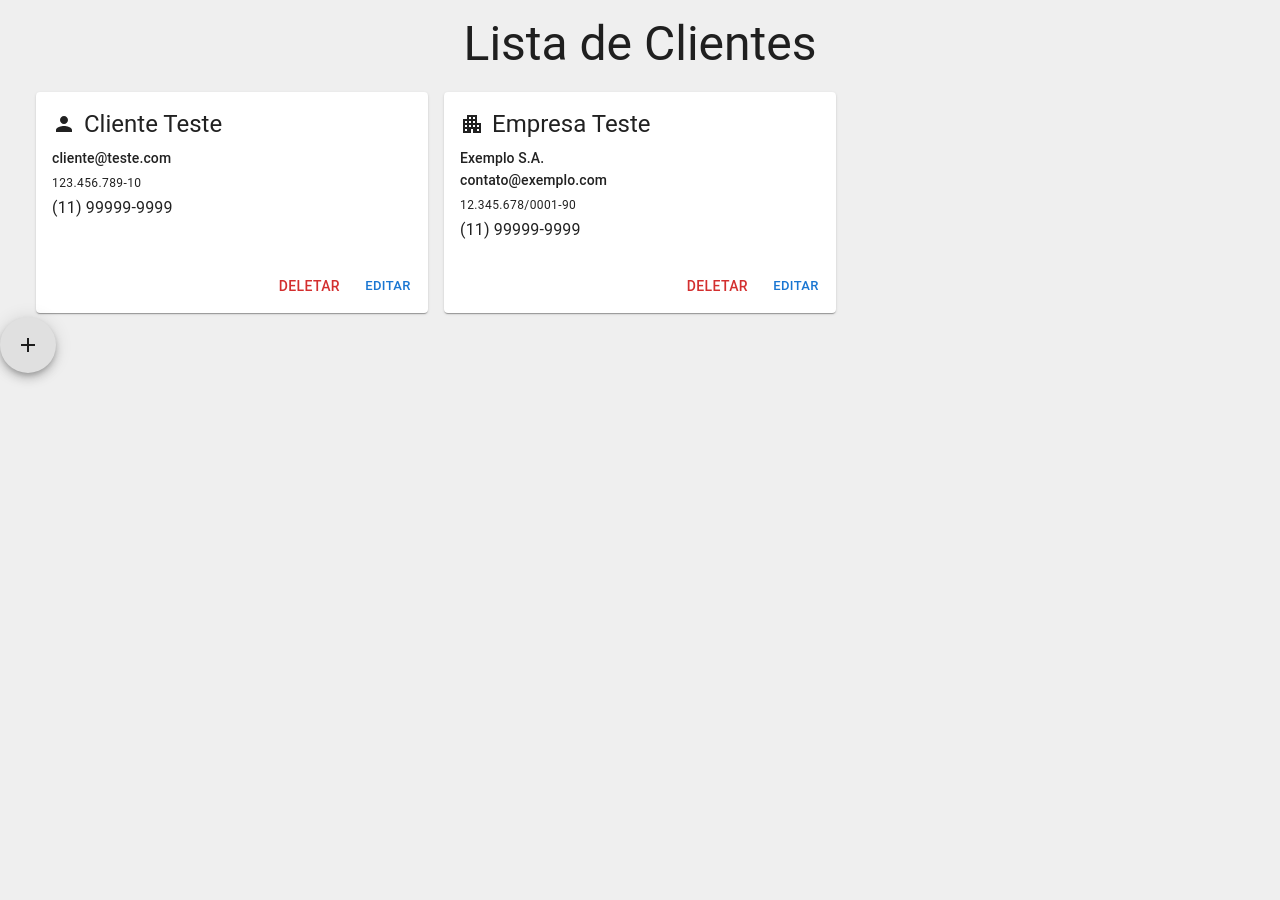
Test case: Page: ClientList › Fetch: Delete › should delete client as sucess
Check: the heading "Cliente Teste" is shown, box [52,110,222,138]
Click the button "Deletar" below "123.456.789-10" at coordinates (309, 287), box [271,268,348,305]
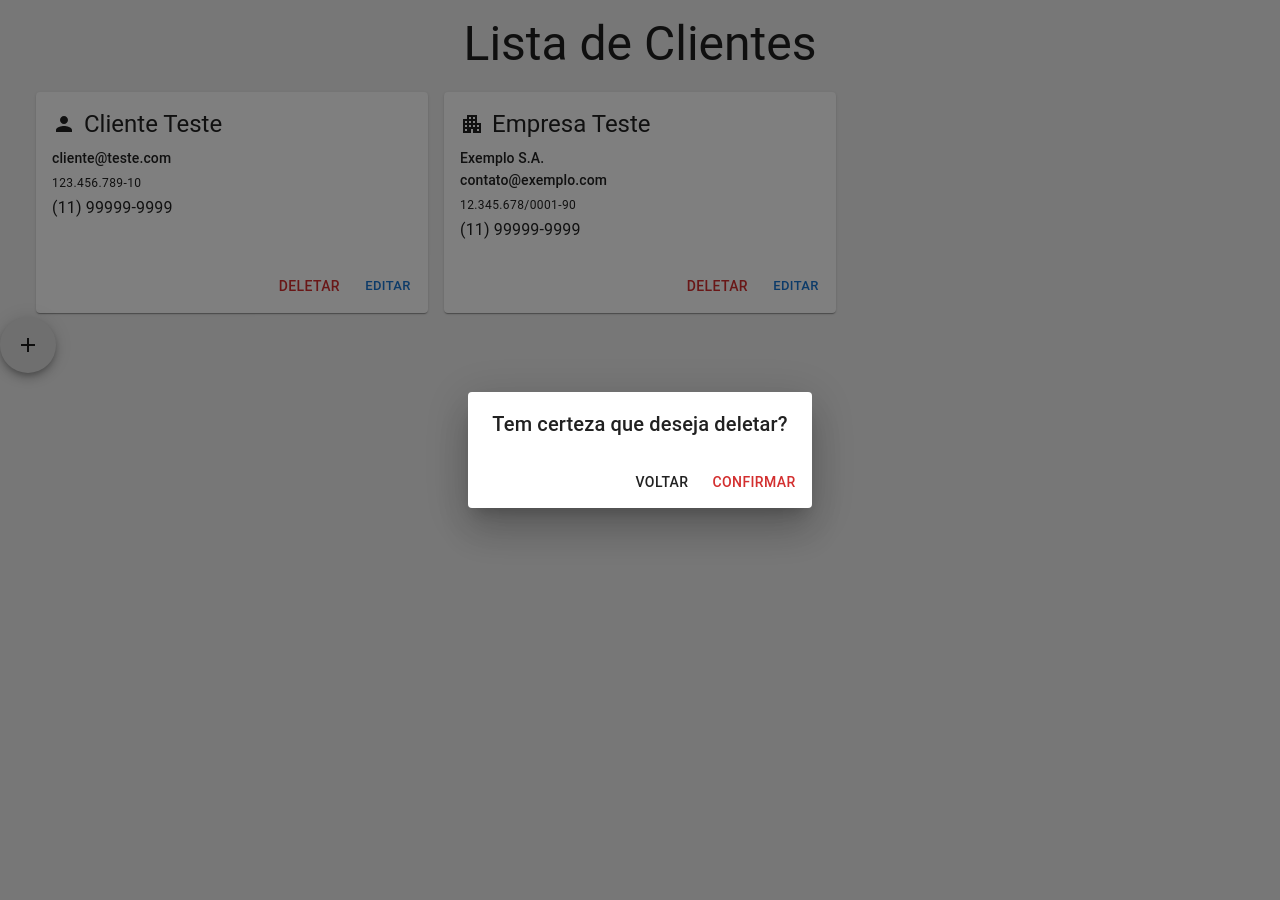
Click the button "CONFIRMAR" at coordinates (754, 482), box [704,464,804,500]
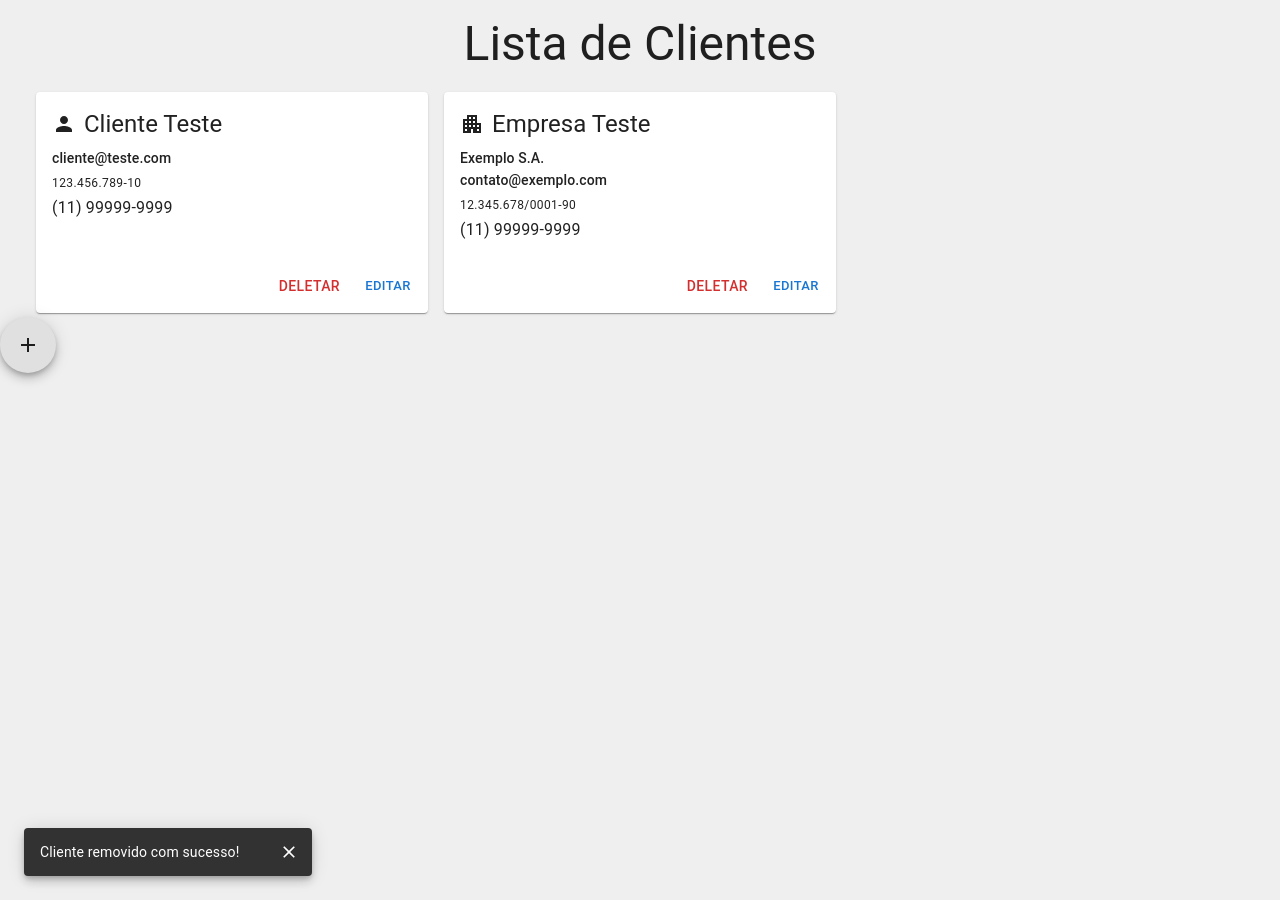
Check: the text "Cliente removido com sucesso!" is shown, box [40,844,240,860]
